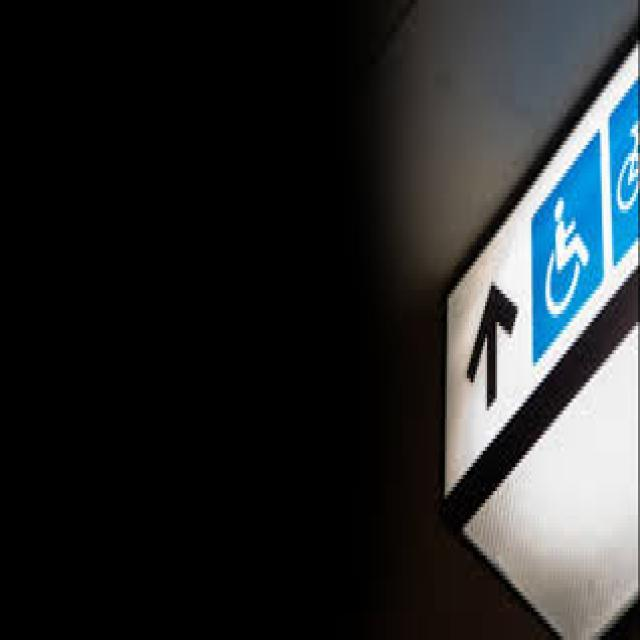symbol_of_access: (544, 194, 601, 316)
